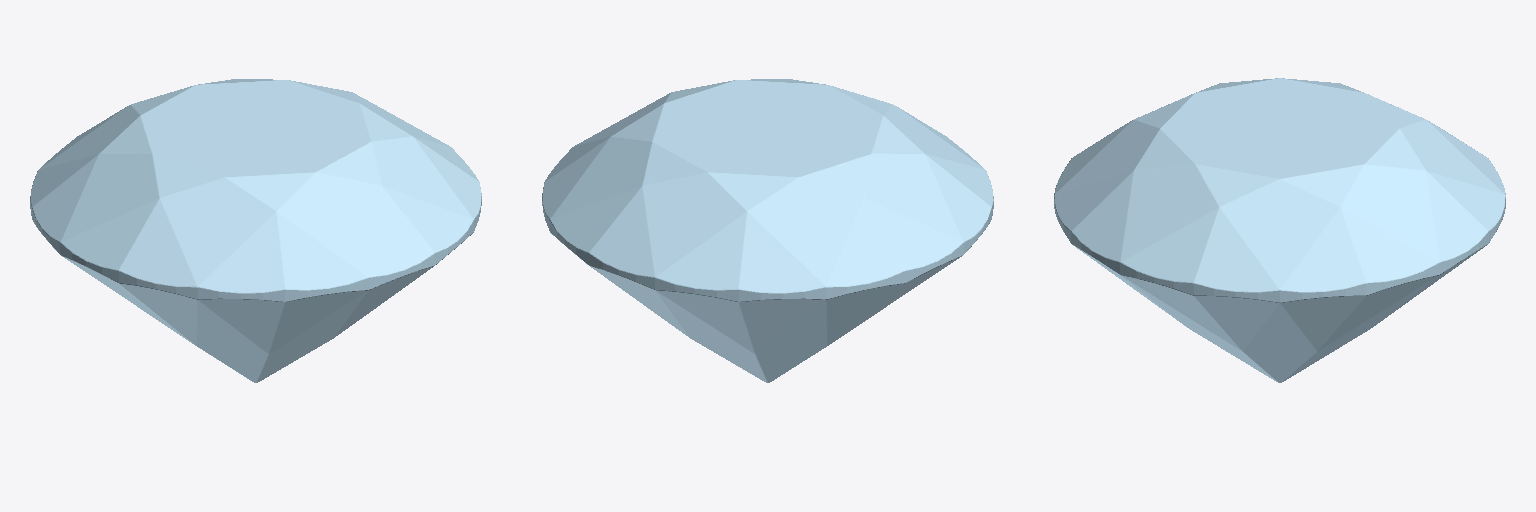
File: Diamond_High_Poly.obj
3 renders of one model, left to right at view 1: azimuth 30°, elevation 25°; view 2: azimuth 150°, elevation 25°; view 3: azimuth 270°, elevation 25°, orthographic.
Parts seen in each view (by area): view 1: Diamond_-_Brilliant_Cut_dmesh; view 2: Diamond_-_Brilliant_Cut_dmesh; view 3: Diamond_-_Brilliant_Cut_dmesh.
Boxes of the visible parts, box(x1,y1,x2,y2) form: Diamond_-_Brilliant_Cut_dmesh: box(30, 79, 481, 382); Diamond_-_Brilliant_Cut_dmesh: box(542, 79, 993, 382); Diamond_-_Brilliant_Cut_dmesh: box(1054, 78, 1505, 382).
Bounding box in the file's own units: 2 × 1.25 × 2.